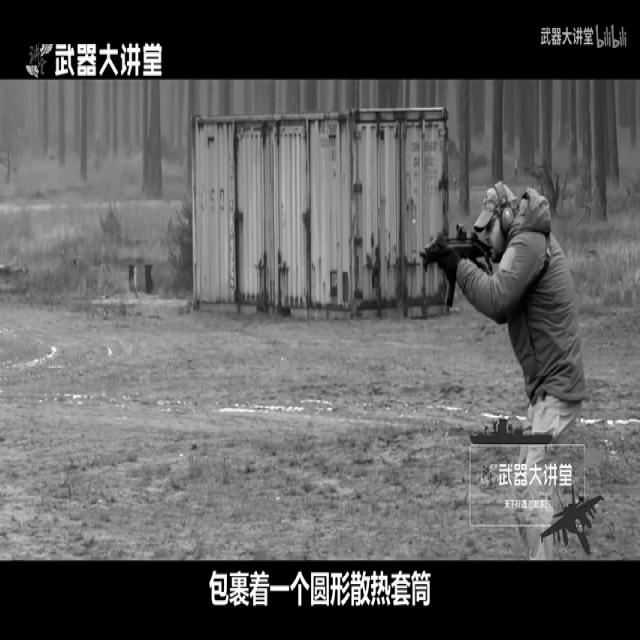Rifle: (393, 183, 533, 348)
